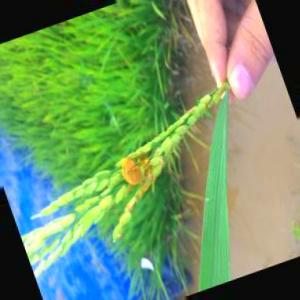Leaf_Scald: (119, 159, 154, 192)
